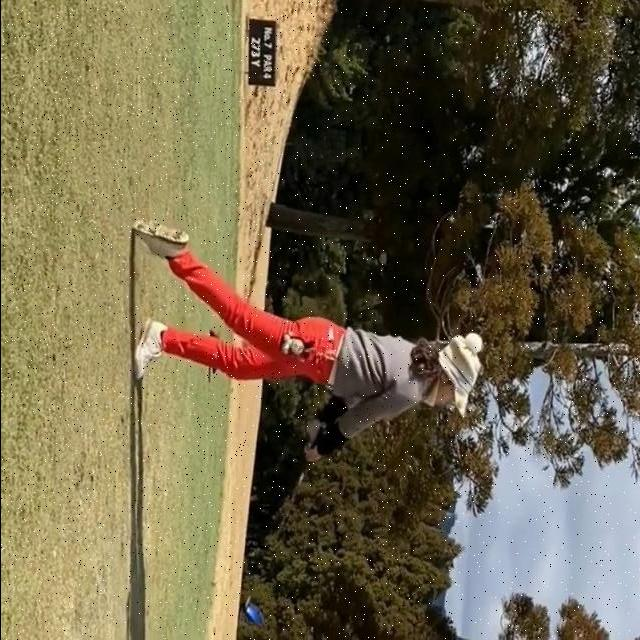ClubHandle: (240, 420, 327, 627)
ClubHead: (241, 602, 265, 625)
